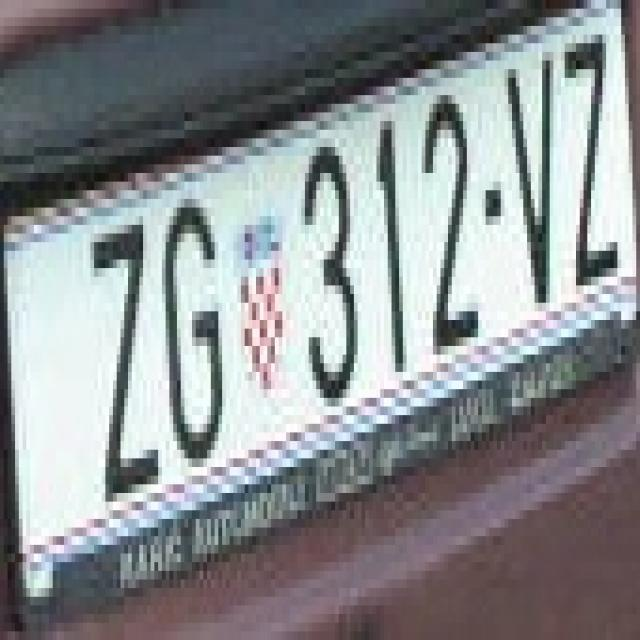1: (365, 95, 422, 398)
2: (422, 52, 486, 380)
3: (290, 86, 369, 424)
G: (158, 182, 241, 467)
V: (504, 52, 558, 320)
Z: (82, 182, 154, 502), (554, 17, 622, 320)
